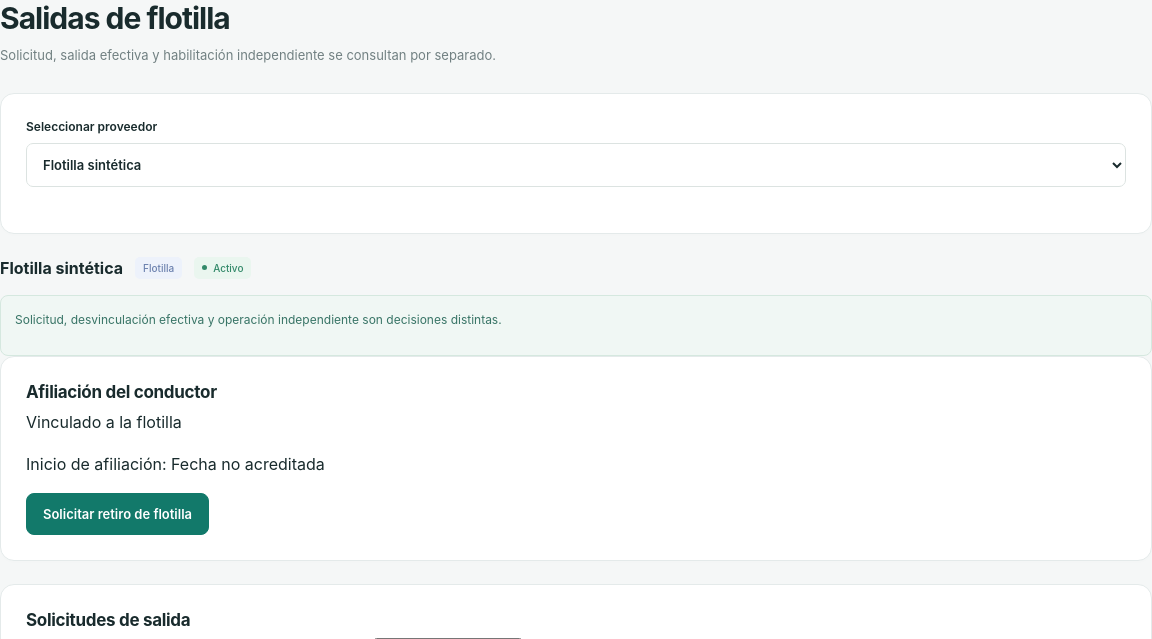
Test: storage failure prevents HTTP and keeps the draft recoverable
Click the button "Solicitar retiro de flotilla" at point(118, 514), box left=26, top=493, right=209, bottom=535
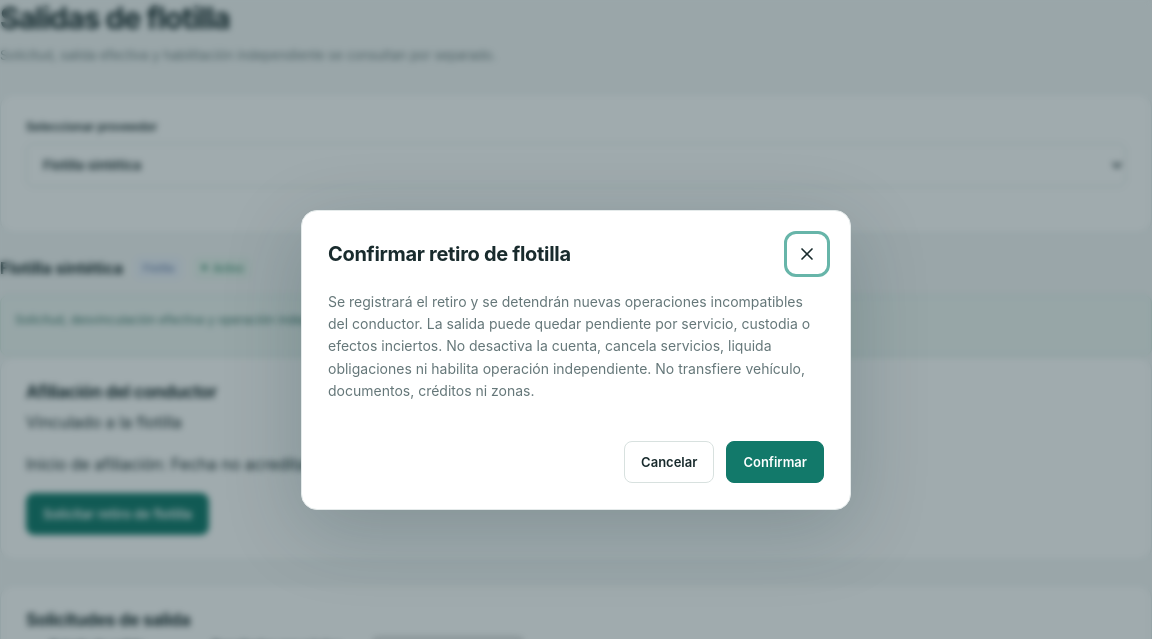
Click the button "Confirmar" at point(775, 462), box left=726, top=442, right=824, bottom=484
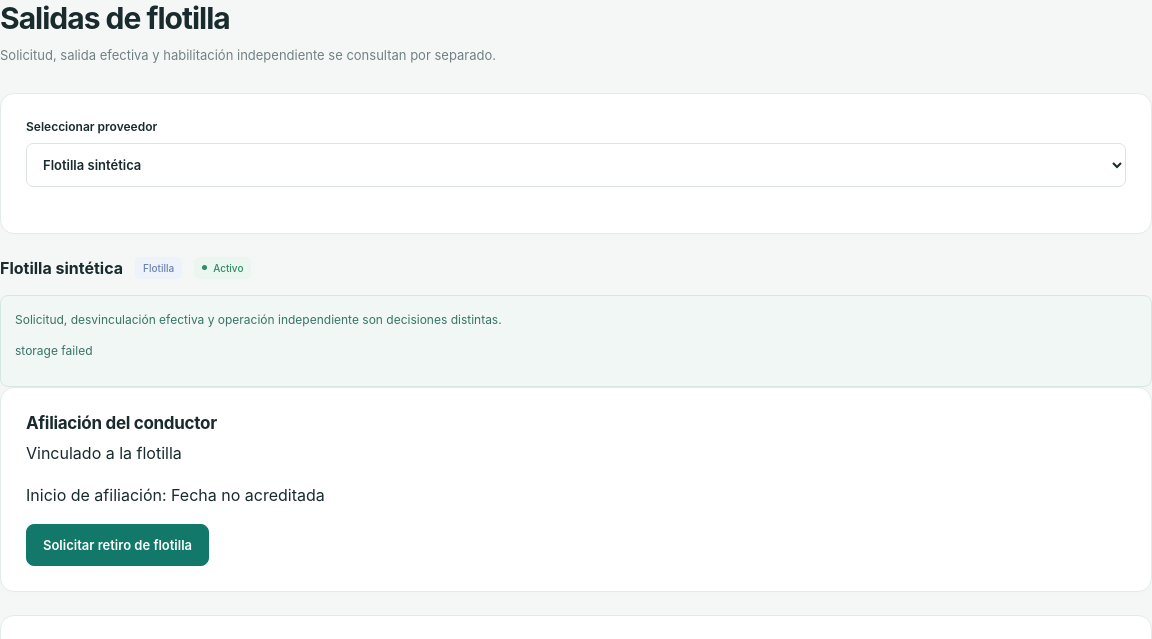
Check: the text "storage failed" is shown, box left=15, top=343, right=92, bottom=358
